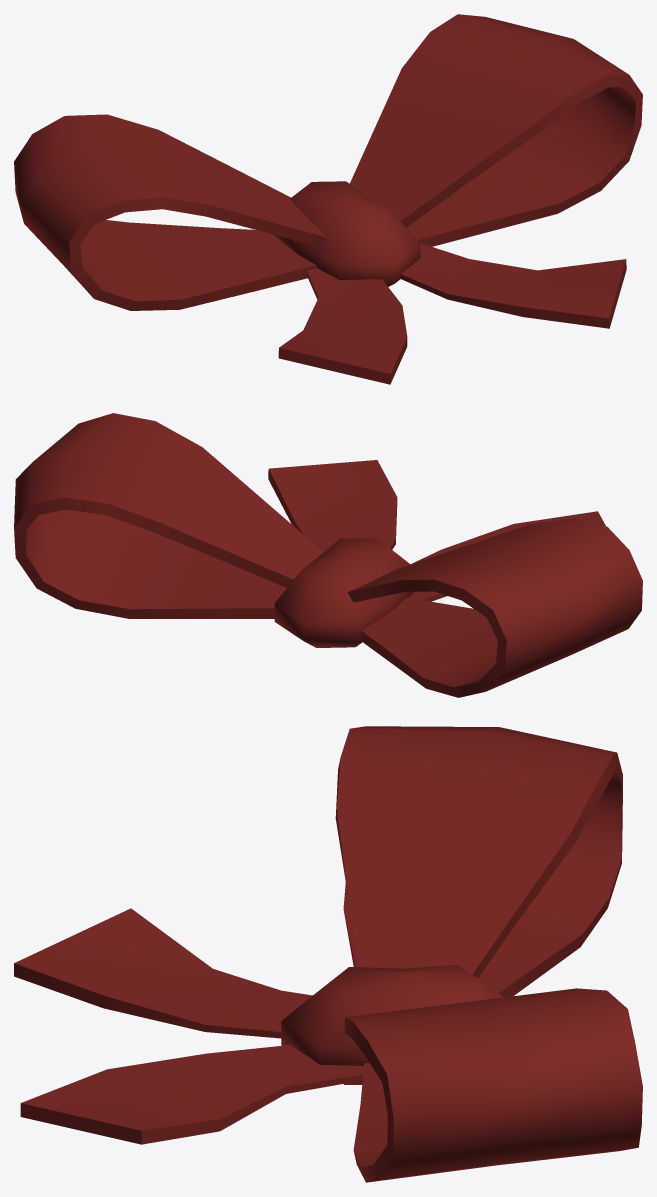
File: Bow_01.fbx
3 renders of one model, top to bottom at view 1: azimuth 30°, elevation 25°; view 2: azimuth 150°, elevation 25°; view 3: azimuth 270°, elevation 25°, orthographic. The views are drawn at different scales.
Visible parts, largest first — view 1: Bow_01; view 2: Bow_01; view 3: Bow_01.
Boxes of the visible parts, x1,y1,x2,y2 form: Bow_01: (14, 14, 642, 384); Bow_01: (14, 413, 642, 697); Bow_01: (14, 726, 642, 1182).
Bounding box in the file's own units: 0.2191 × 0.0507 × 0.158.
